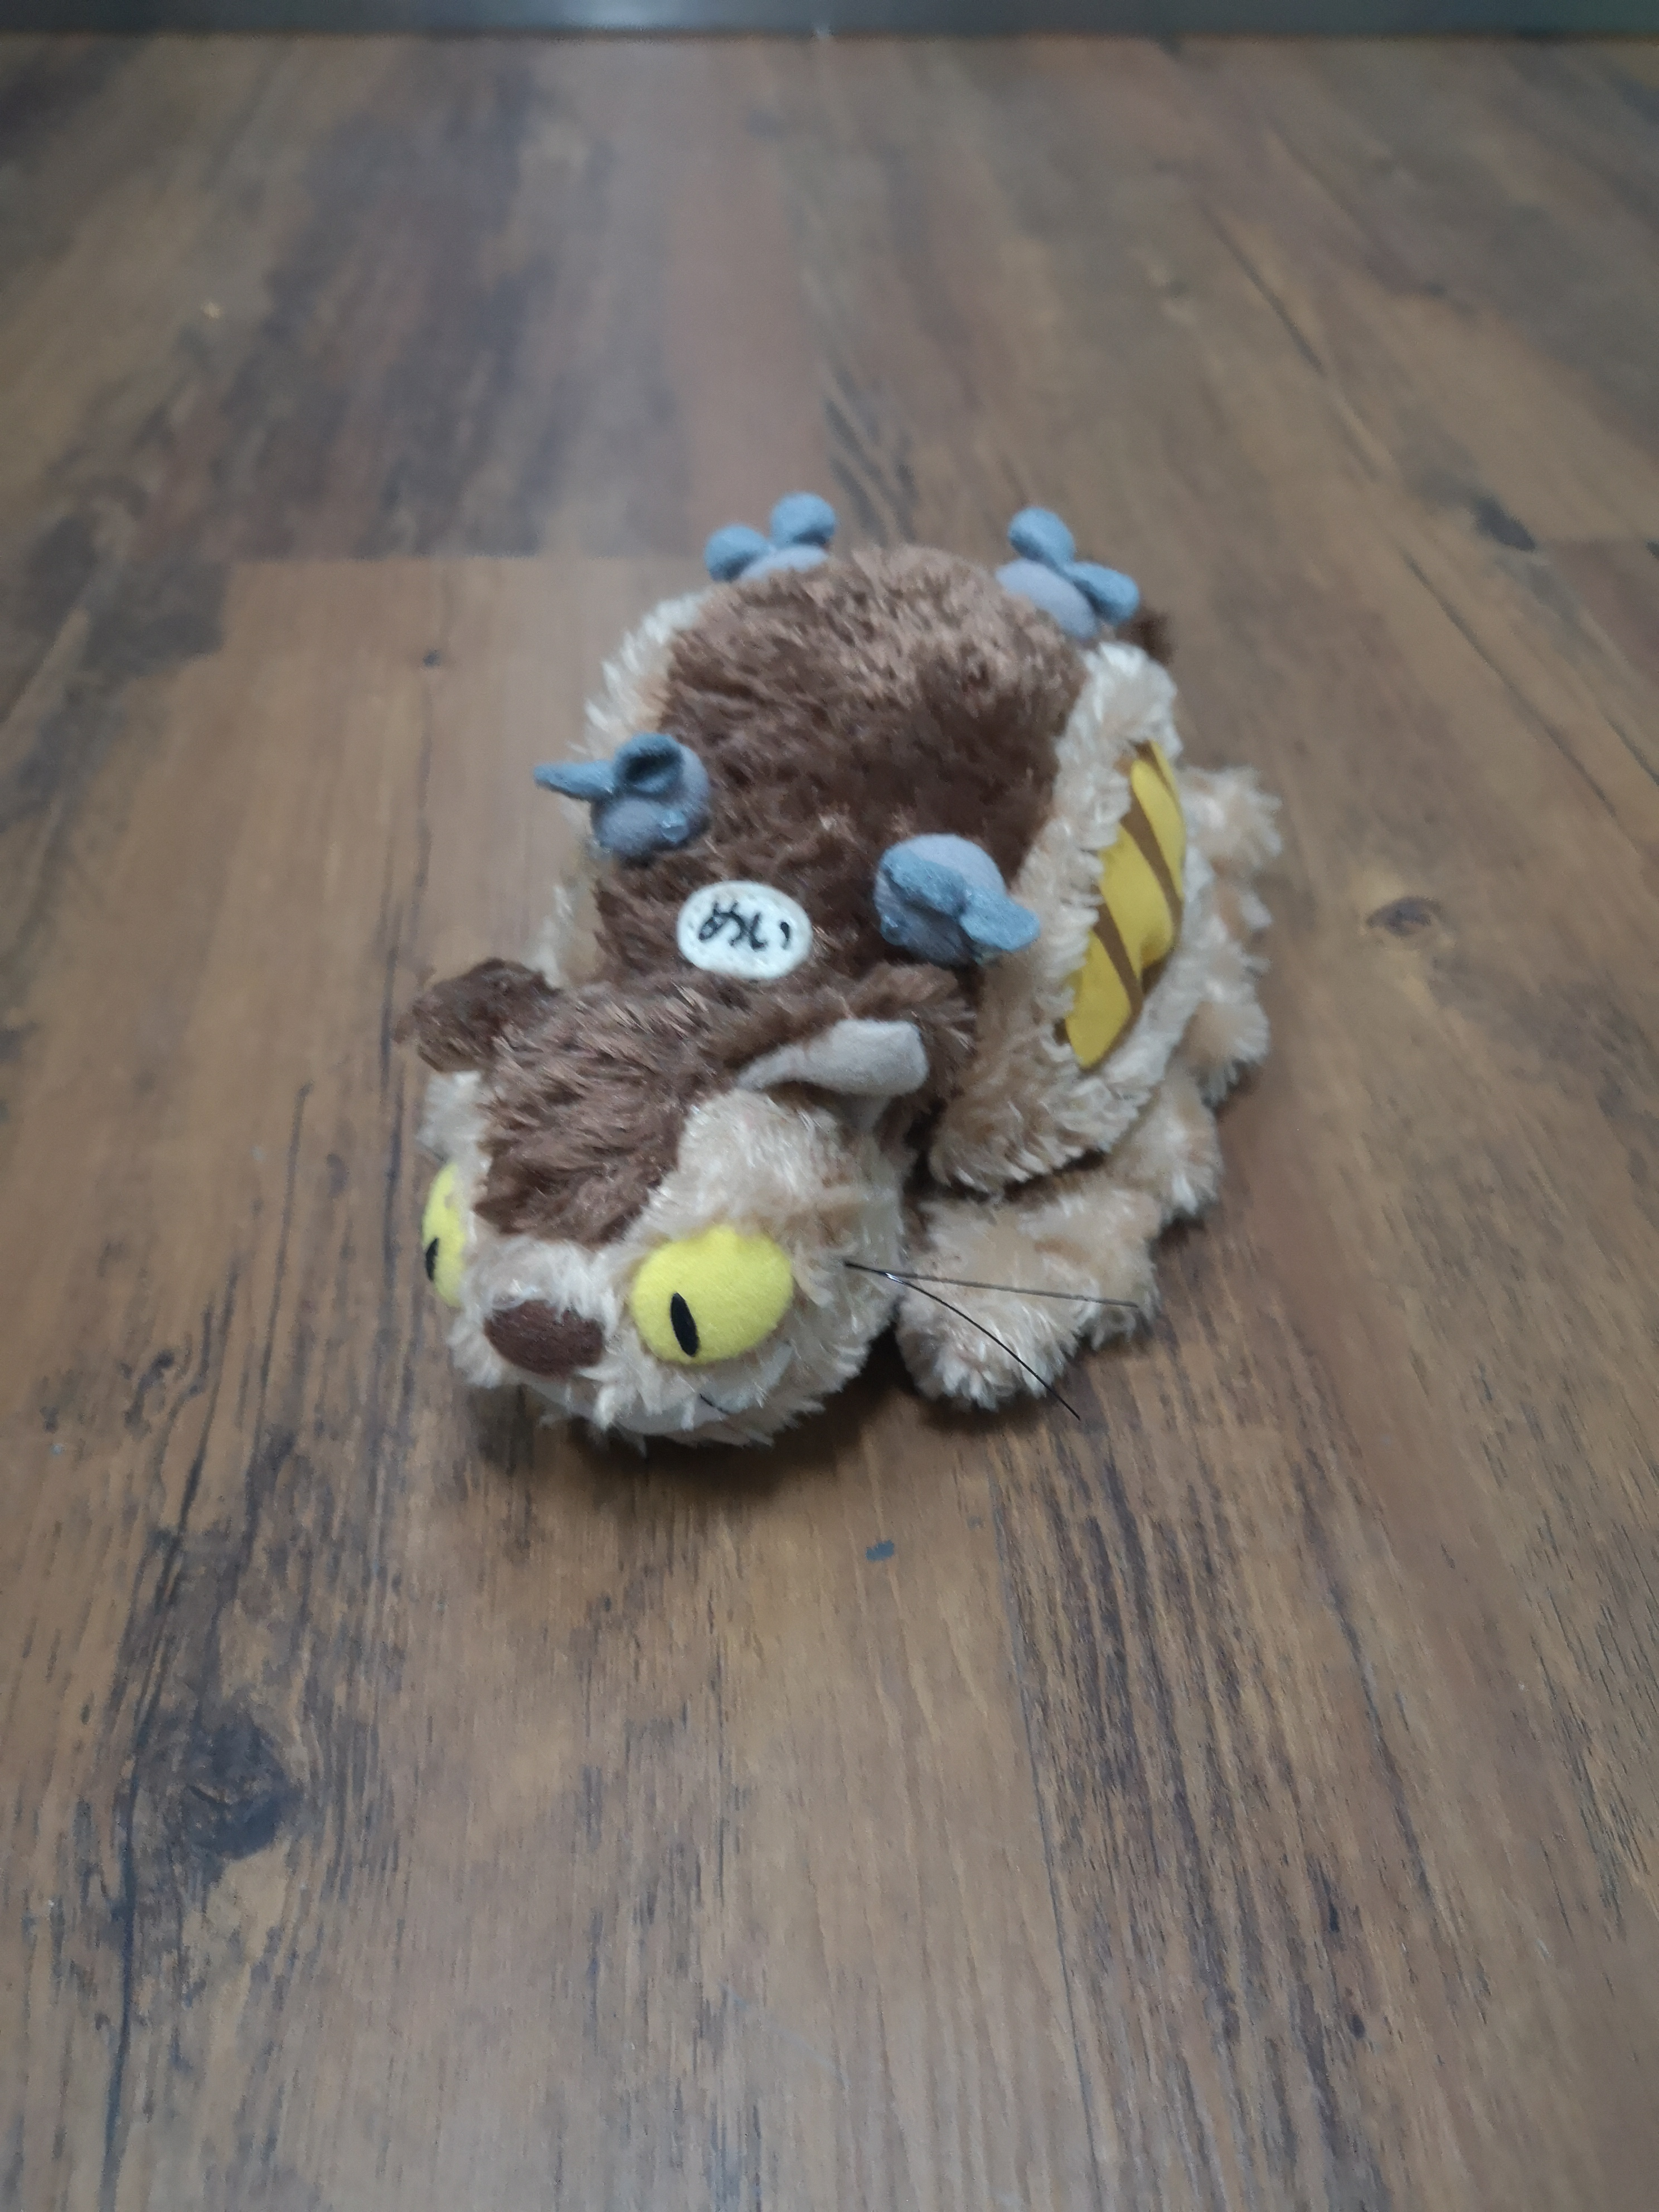nekobus: (385, 495, 1309, 1519)
